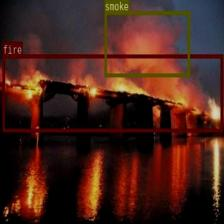fire: (2, 54, 223, 132)
smoke: (104, 11, 189, 76)
